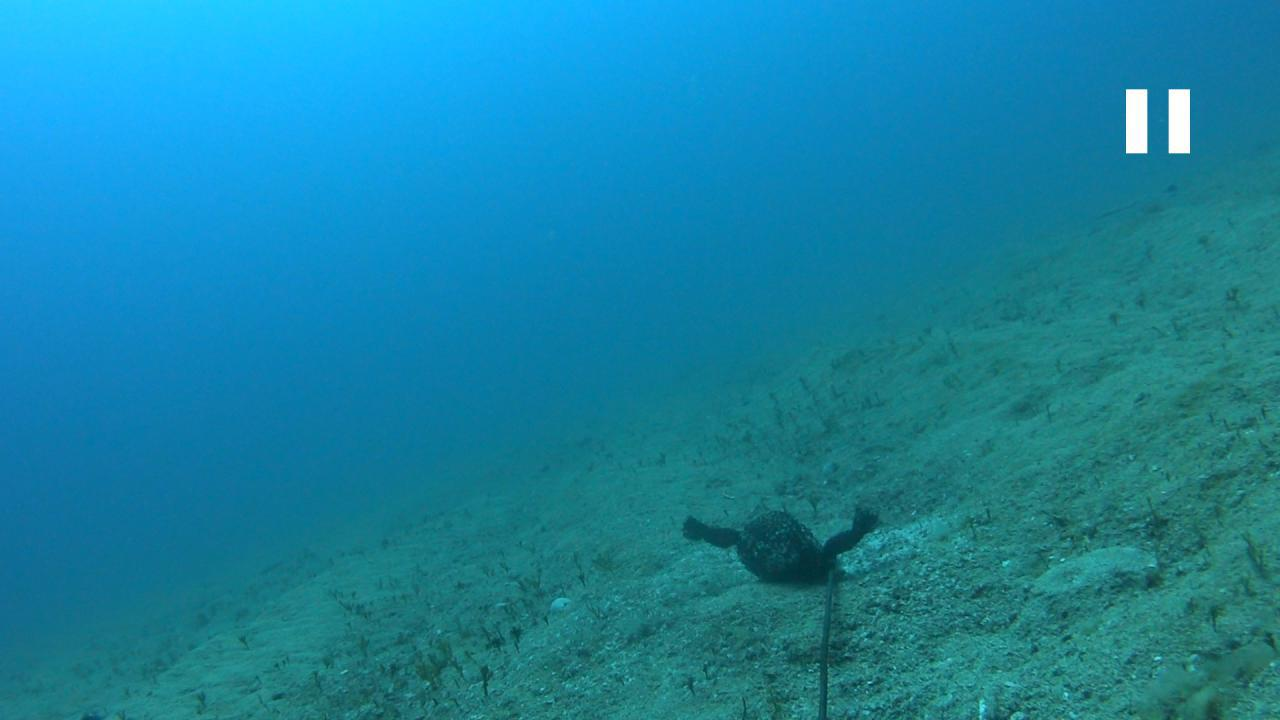dasyatis: (1093, 184, 1180, 223)
